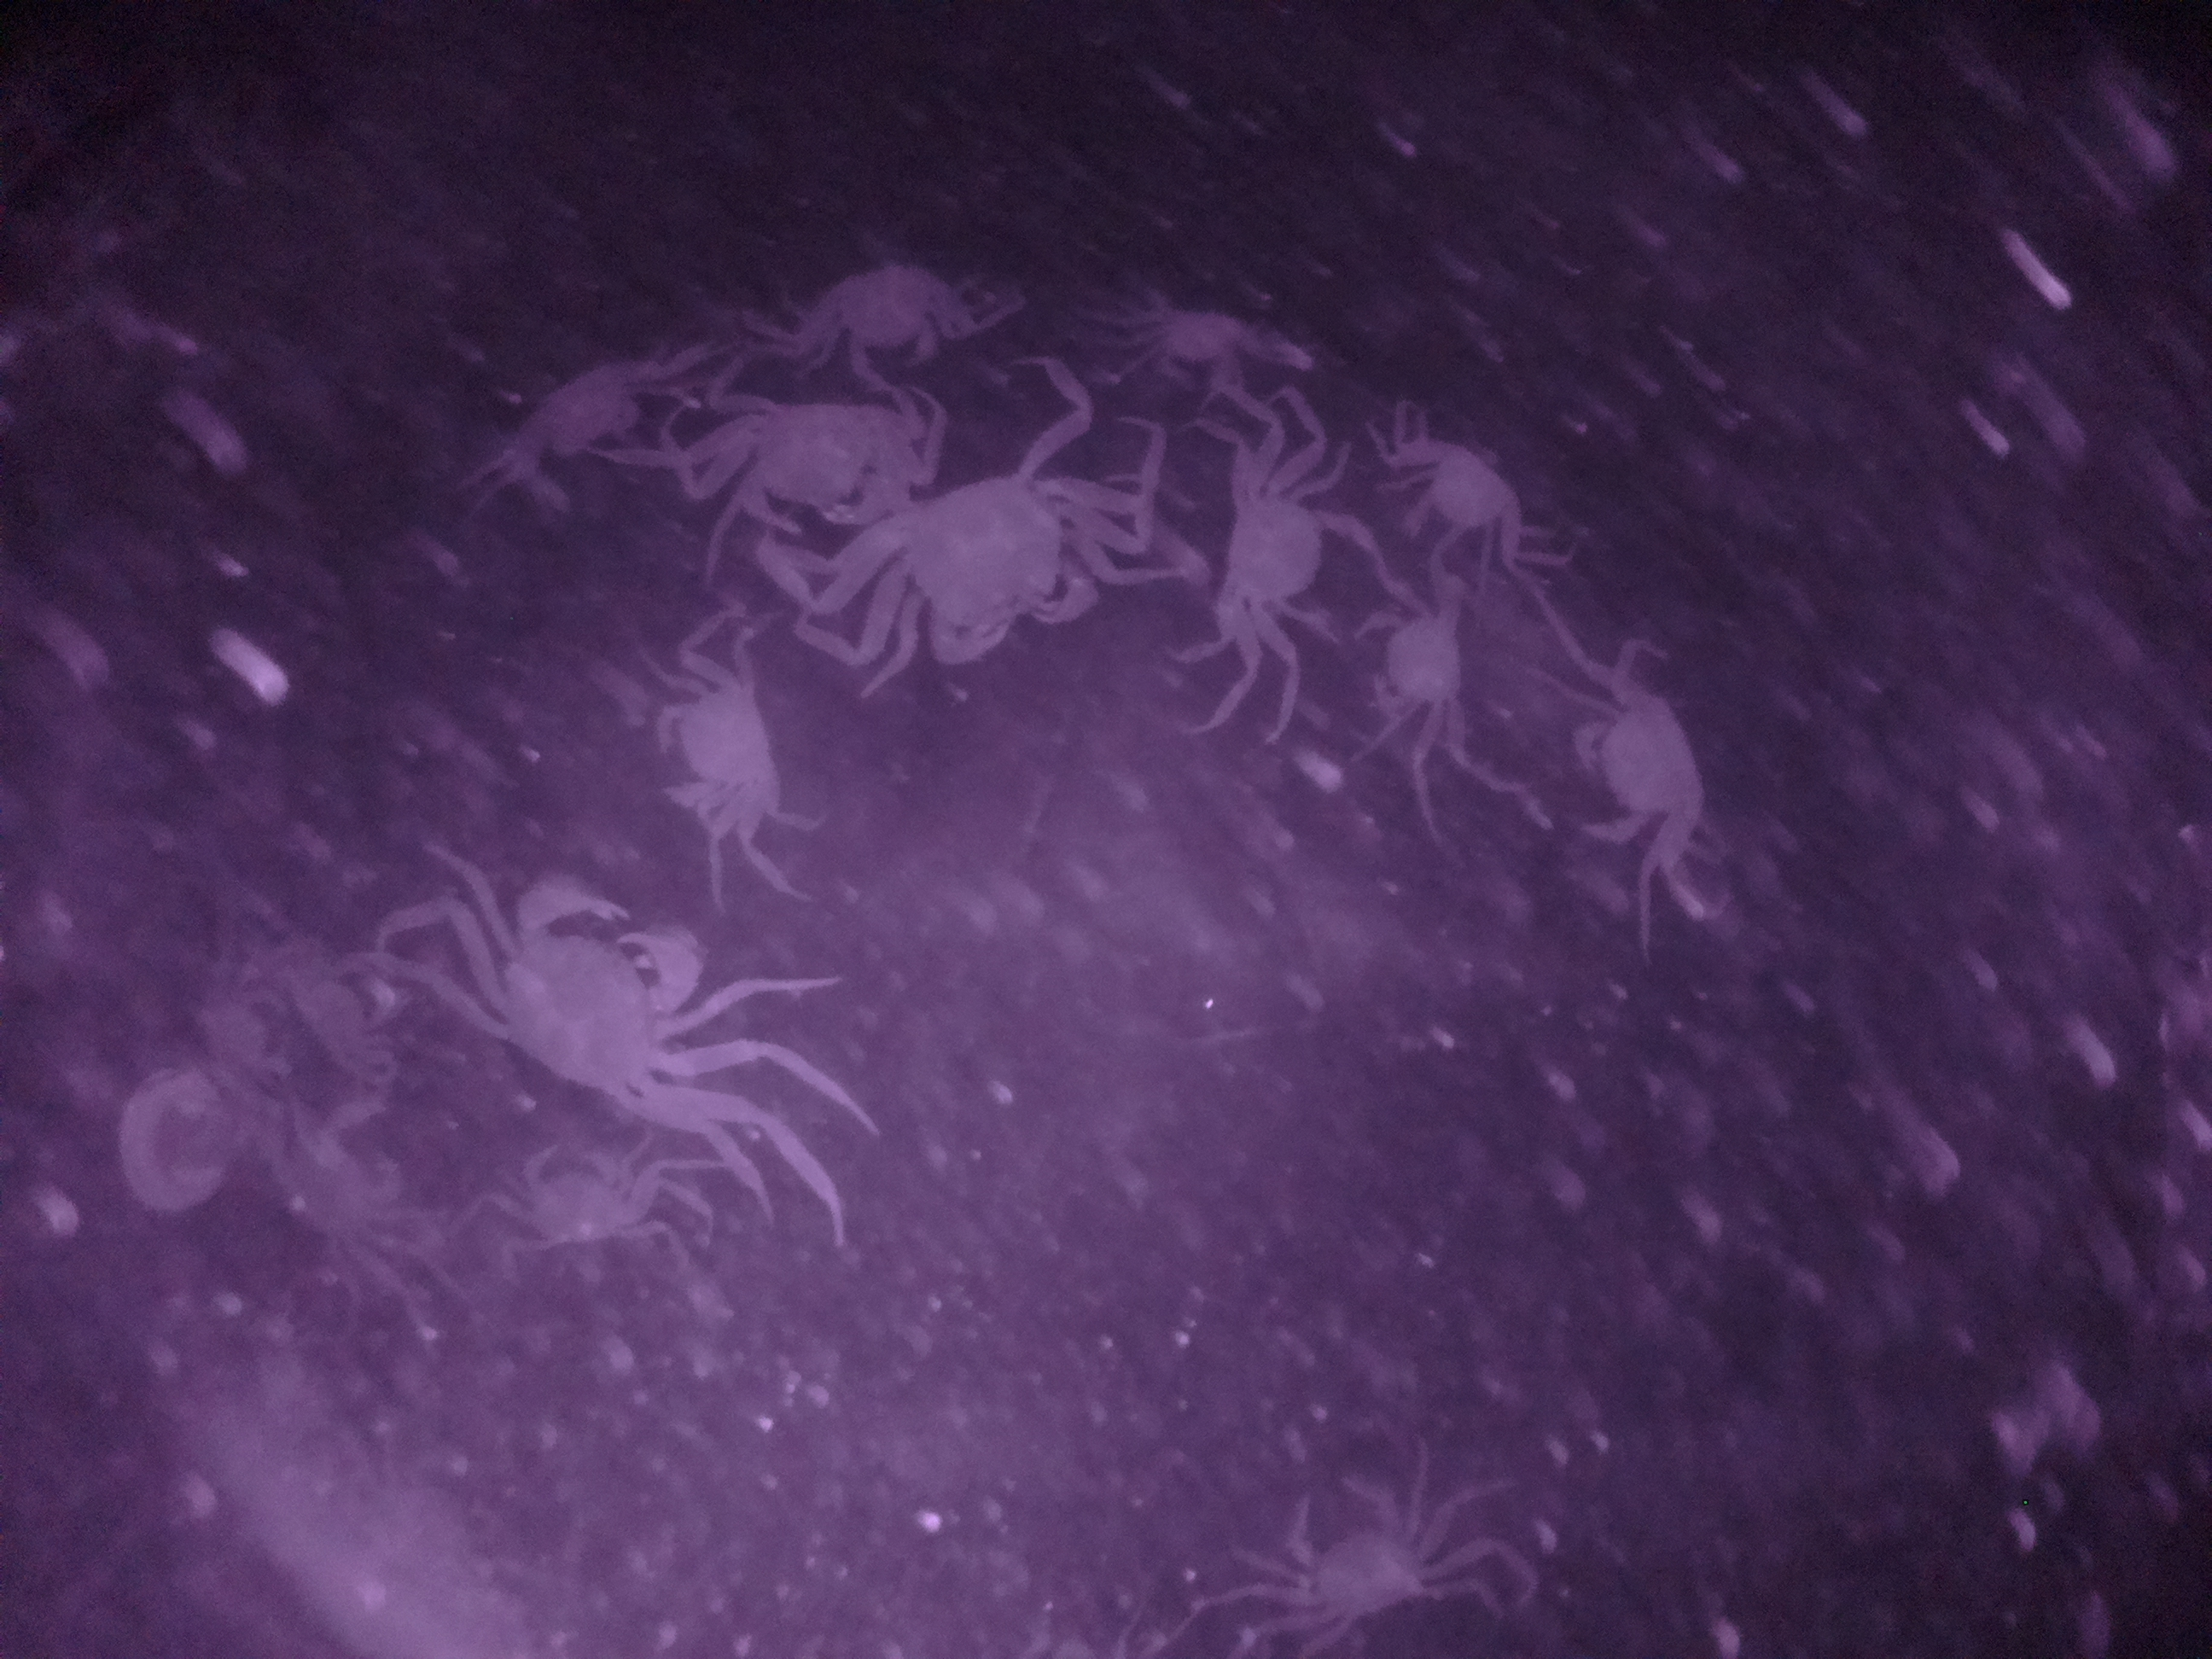Crab: (878, 439, 1137, 688), (479, 857, 707, 1131), (1559, 678, 1740, 880), (697, 390, 921, 542), (651, 655, 806, 847), (1195, 462, 1362, 638), (1357, 579, 1484, 755), (1392, 425, 1529, 575)
